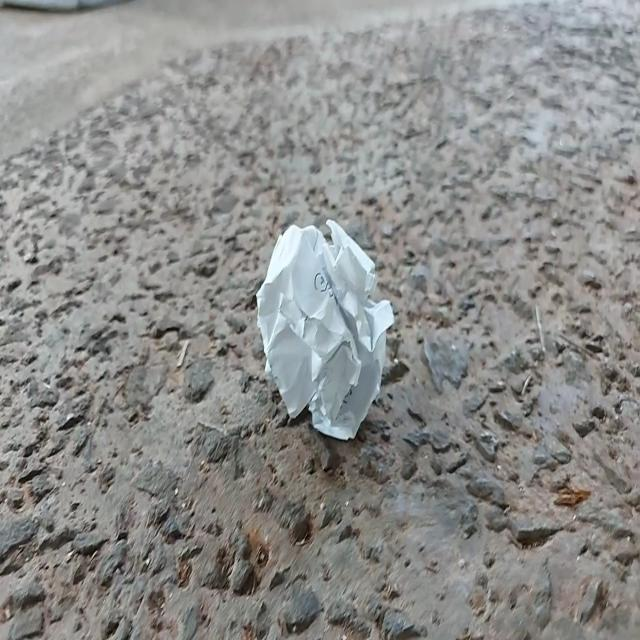Paper: (248, 203, 412, 459)
